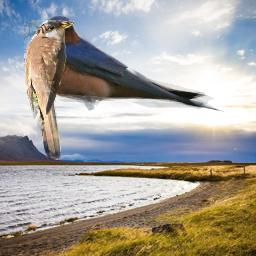Cuckoo: (24, 20, 74, 160)
Swallow: (34, 15, 224, 113)
